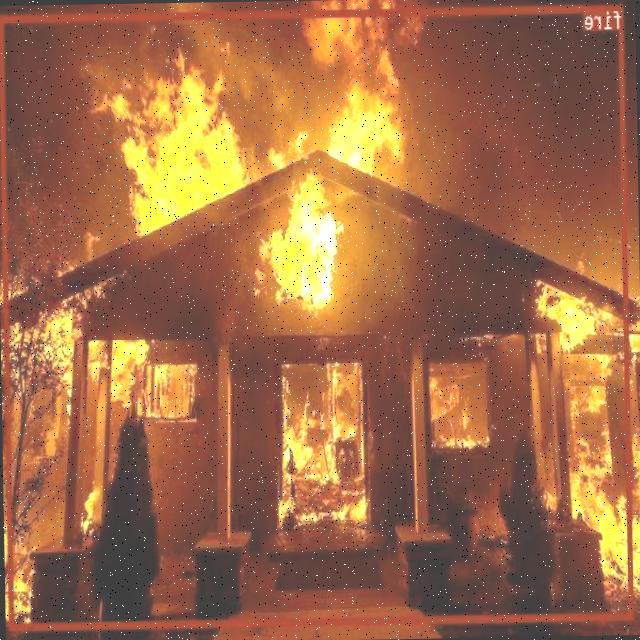fire: (0, 2, 634, 628)
